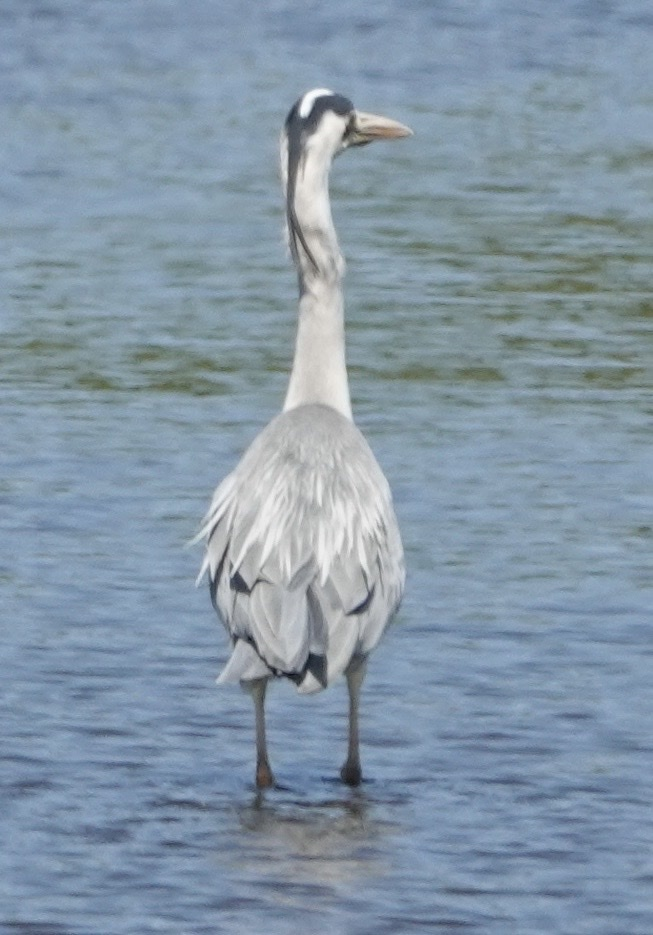heron: (189, 84, 416, 795)
